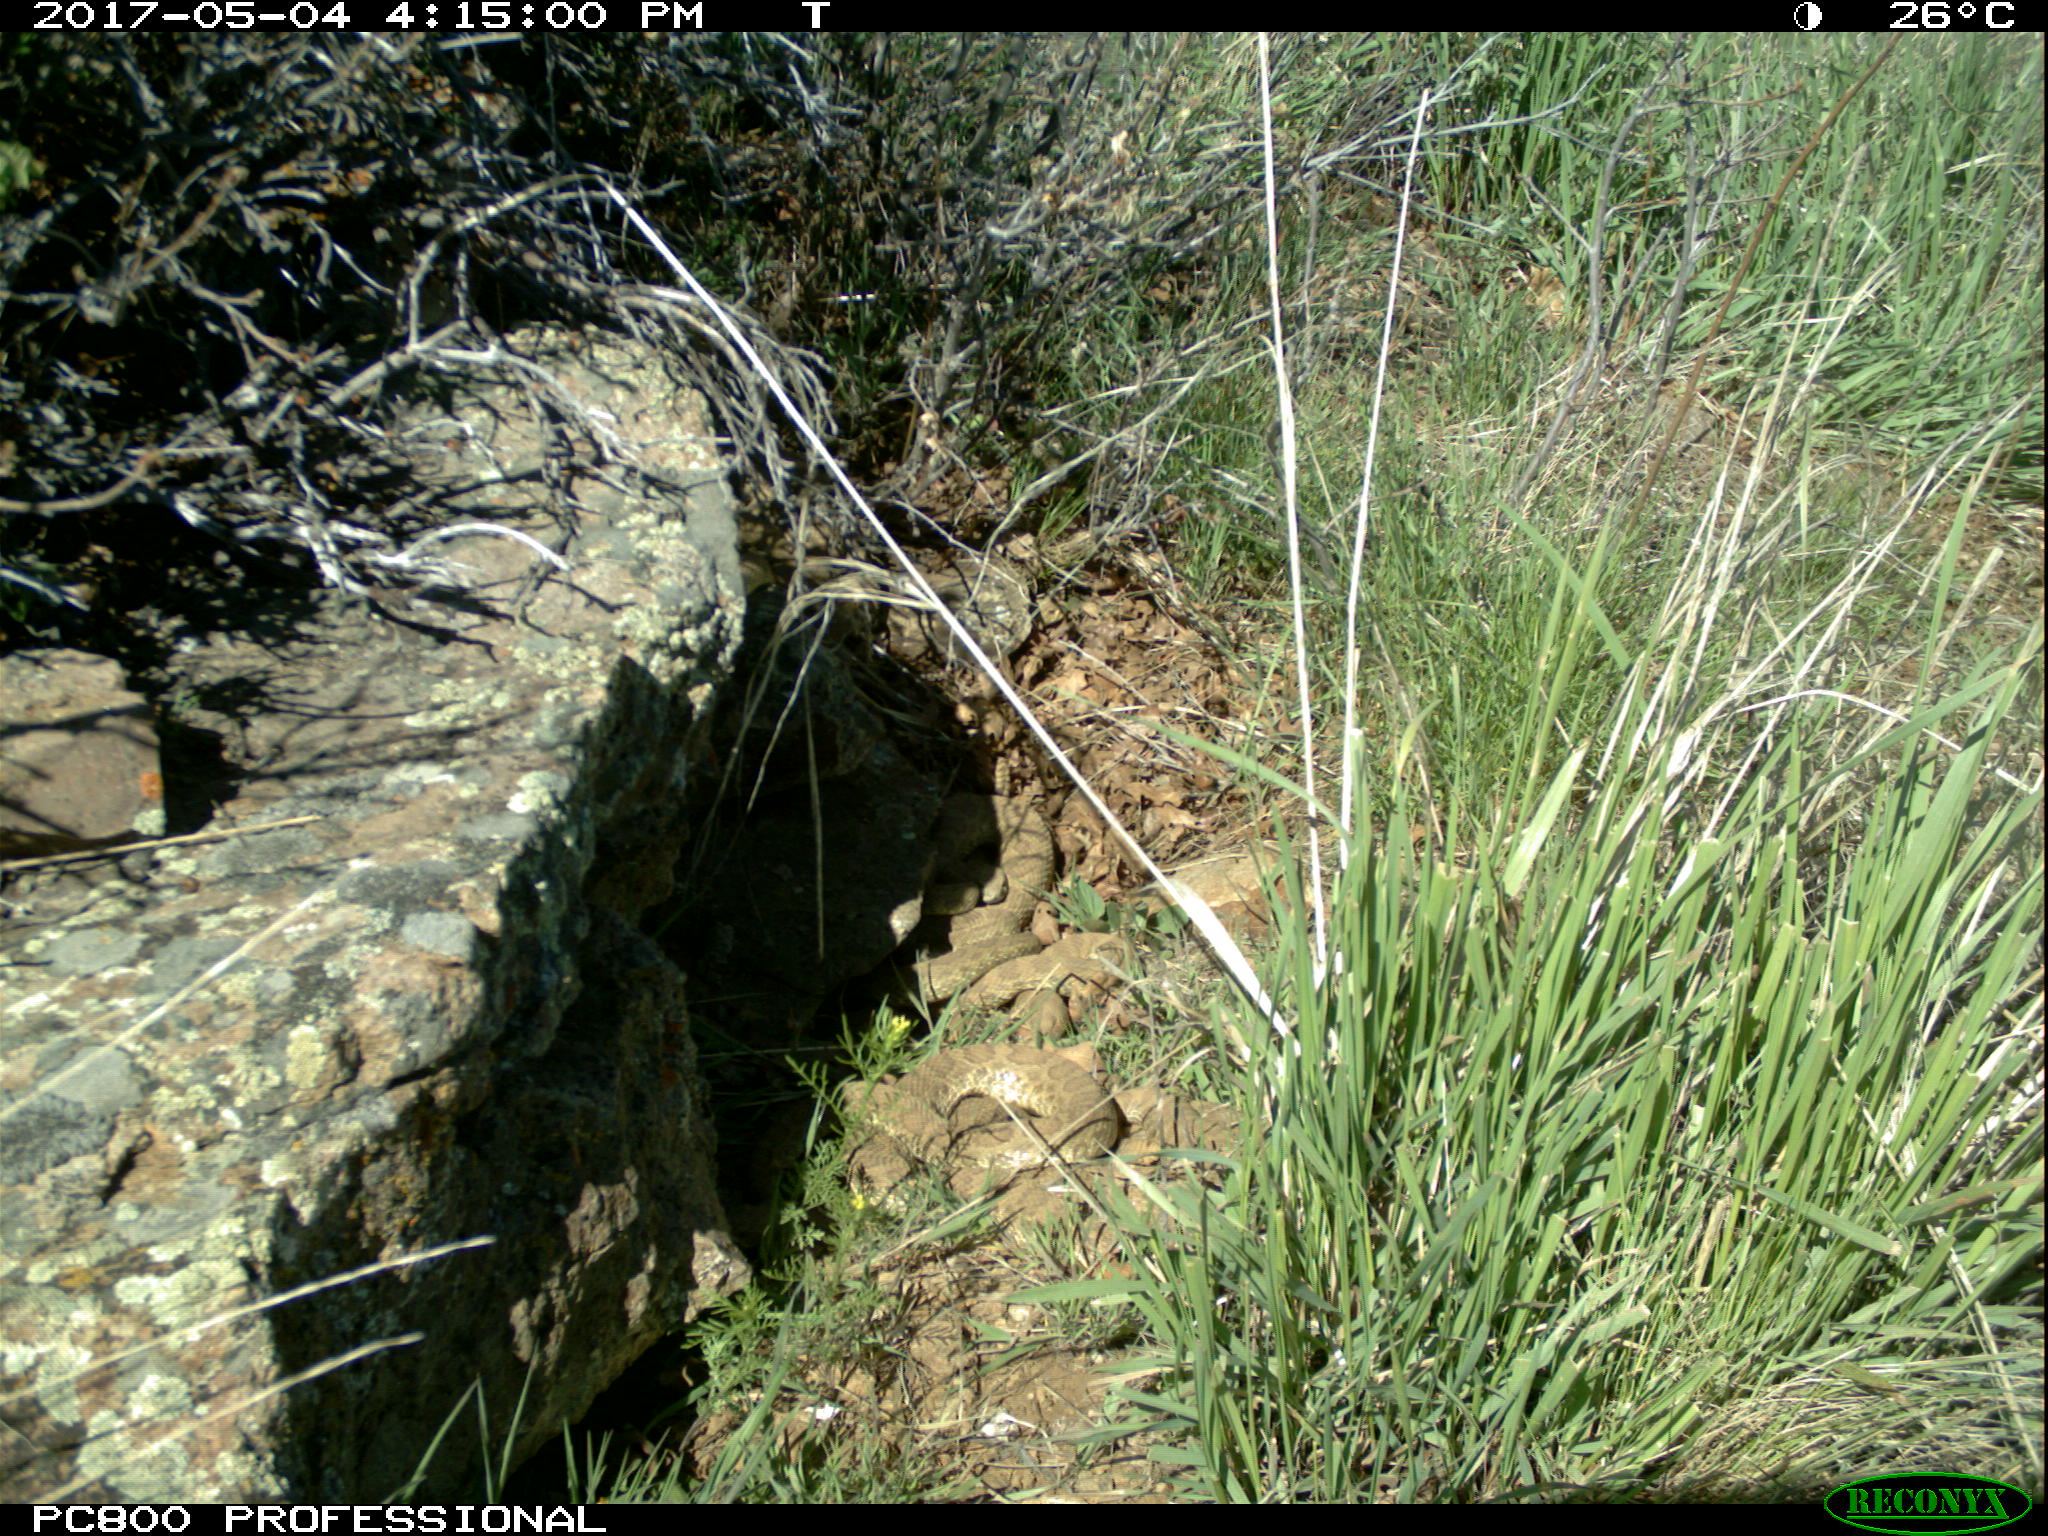snake: (898, 795, 1171, 1004), (842, 1050, 1127, 1242)
